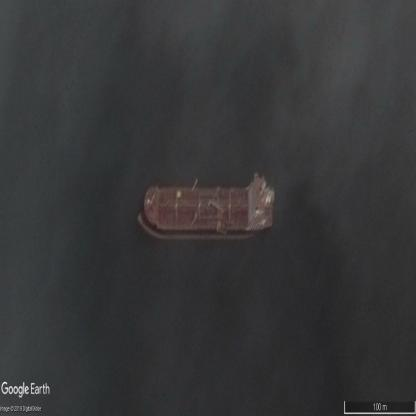ship: (136, 177, 276, 232)
